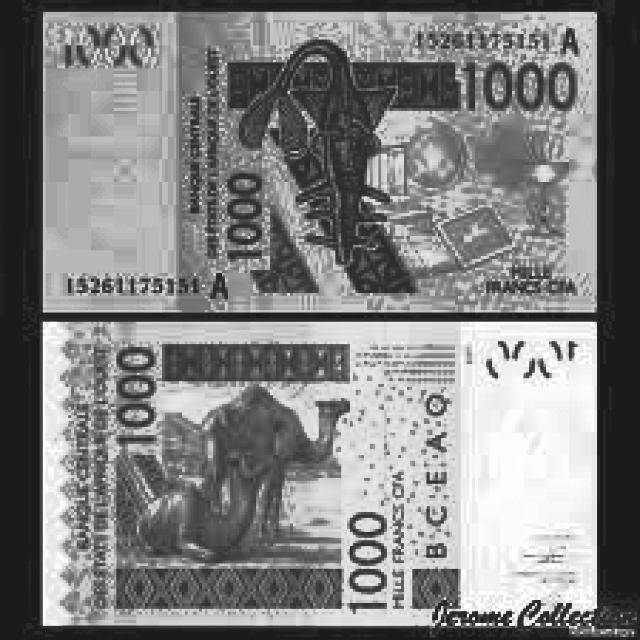niaar teemeer: (42, 321, 598, 627), (42, 12, 595, 312)
